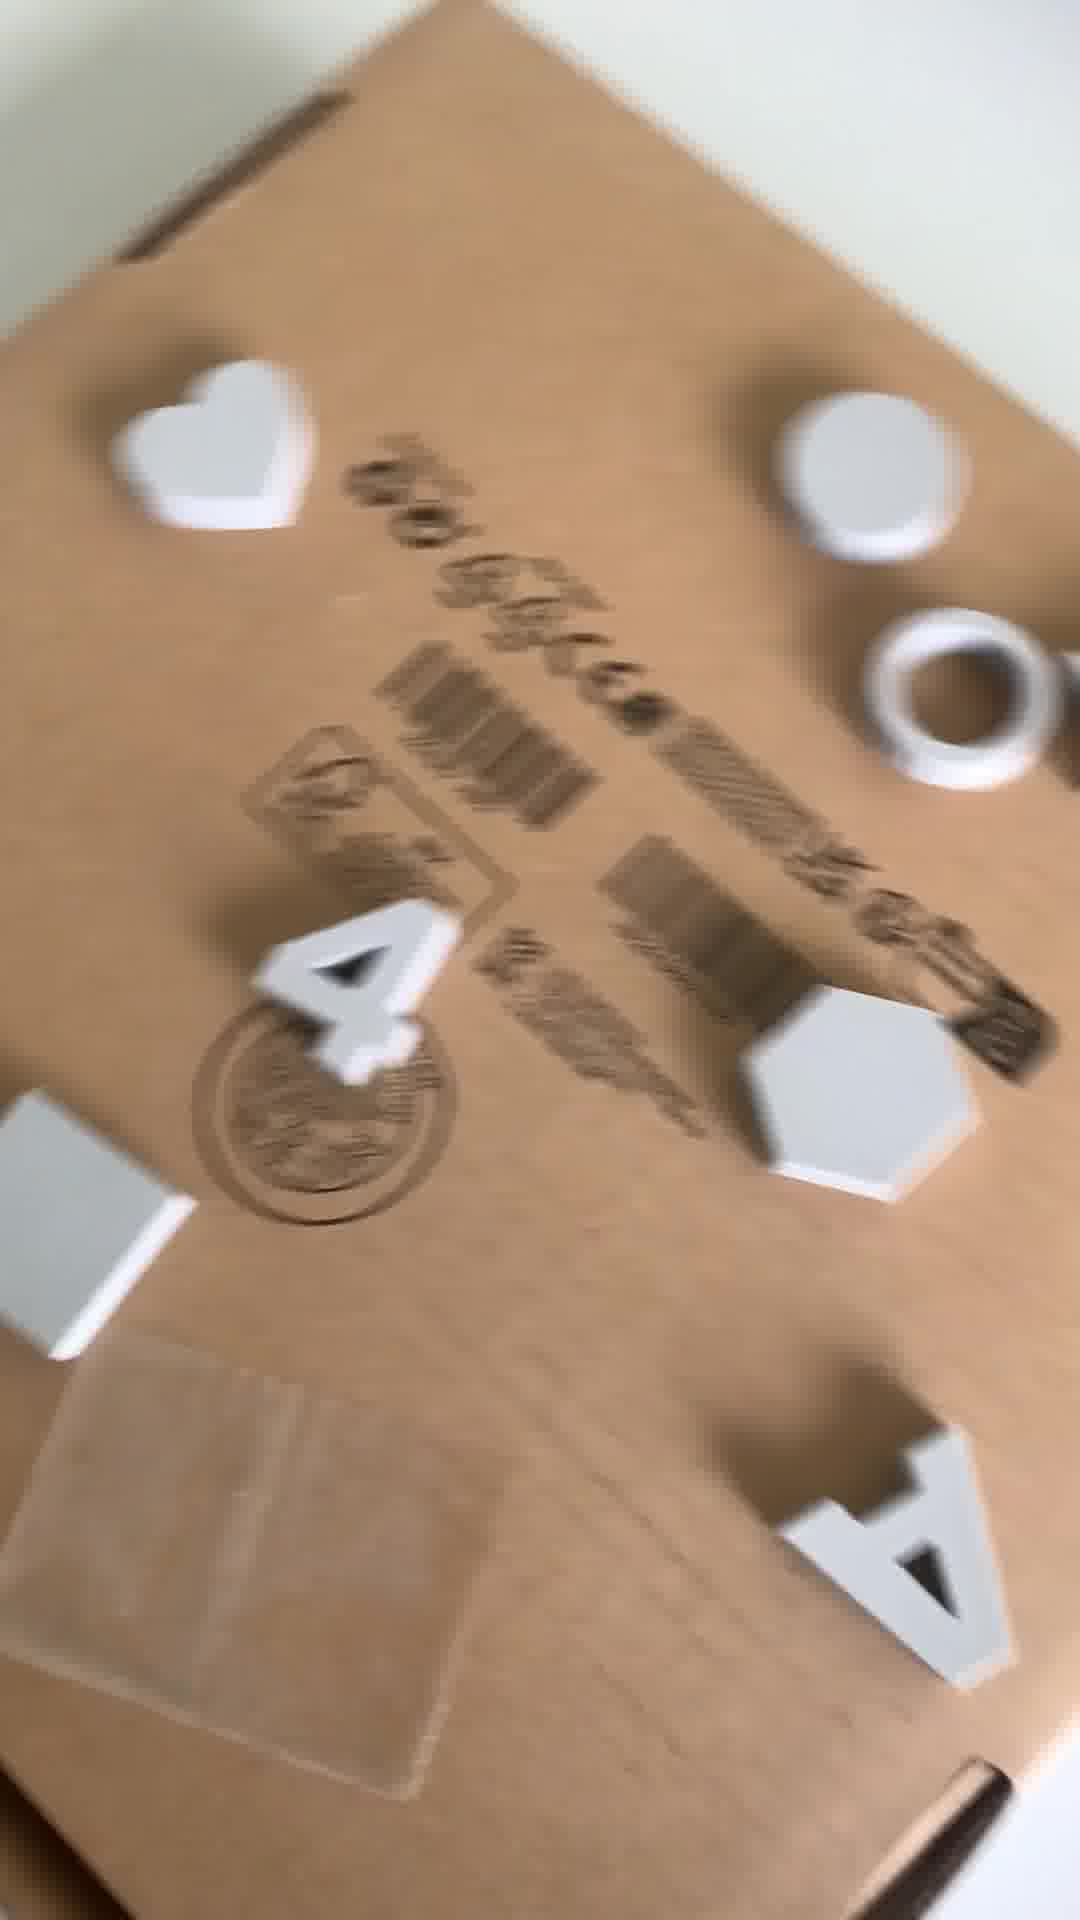Gray A-letter: (771, 1424, 1031, 1710)
Gray circle: (774, 386, 978, 556)
Gray four: (249, 897, 464, 1101)
Gray heart: (113, 355, 324, 542)
Gray hexagon: (745, 967, 984, 1215)
Gray ring: (876, 601, 1043, 789)
Gray square: (1, 1077, 200, 1361)
